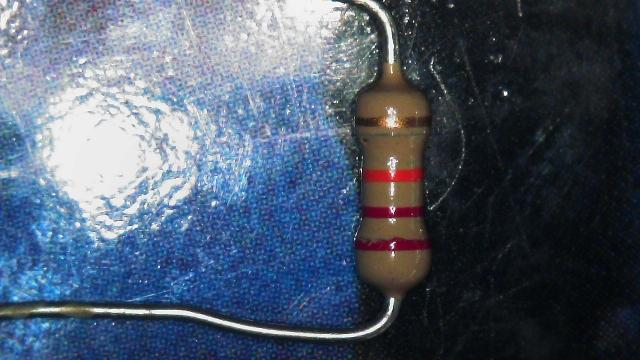gold: (353, 116, 434, 127)
orange: (360, 170, 423, 181)
red: (355, 240, 430, 250), (361, 208, 424, 218)
resistor: (336, 62, 454, 300)
